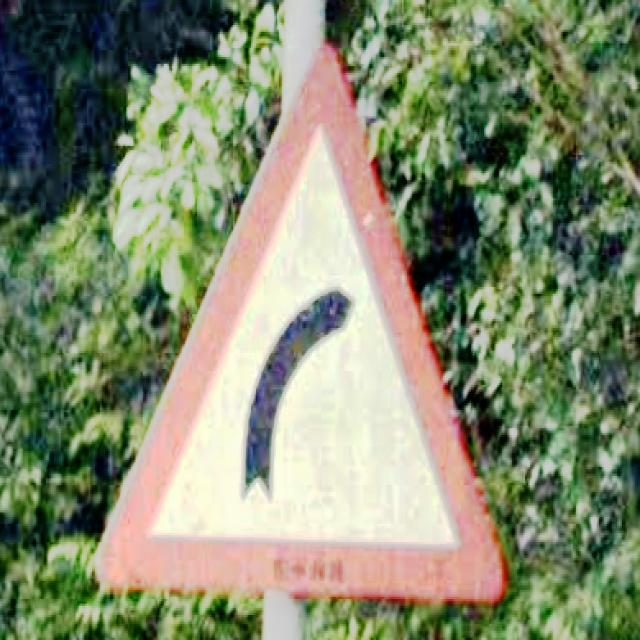rightbend: (98, 46, 507, 606)
